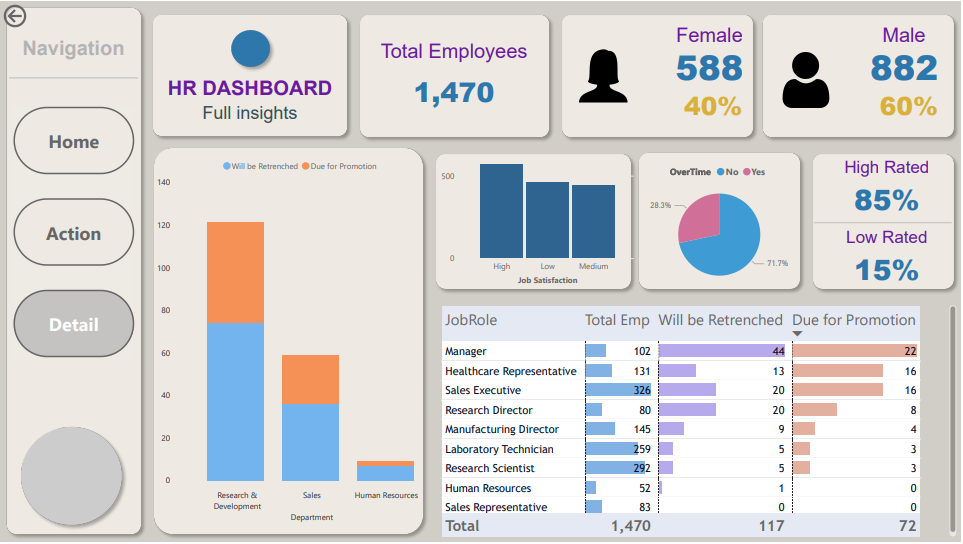

What the dashboard file says about the page in this screenshot:
{"tool":"powerbi","page":{"name":"Detail","canvas":[1280,720],"ordinal":2},"visuals":[{"type":"shape","box":[0,0,195.9,719.3],"z":0},{"type":"shape","box":[195.6,9.9,275,178.6],"z":1000},{"type":"shape","box":[470.6,9.9,270.7,180],"z":2000},{"type":"shape","box":[741.3,9.9,270.7,180],"z":3000},{"type":"shape","box":[1009.1,9.9,270.7,180],"z":4000},{"type":"textbox","box":[195.6,96.4,275,43.9],"z":5000},{"type":"textbox","box":[195.6,130.4,275,59.5],"z":6000},{"type":"shape","box":[300.5,29.8,68,66.6],"z":7000},{"type":"textbox","box":[470.6,29.8,270.7,43.9],"z":8000},{"type":"textbox","box":[895.7,29.8,97.8,43.9],"z":9000},{"type":"textbox","box":[1132.4,29.8,129,43.9],"z":10000},{"type":"card","title":"Total Employees","fields":{"Values":["All Measures.Total Emp"]},"box":[479.8,52,251.6,107.4],"z":11000},{"type":"card","title":"Male","fields":{"Values":["All Measures.Male"]},"box":[1142.4,29.8,126.1,82.2],"z":12000},{"type":"card","title":"Female","fields":{"Values":["All Measures.% female"]},"box":[892.9,102,116.2,75.1],"z":13000},{"type":"card","title":"Female","fields":{"Values":["All Measures.% male"]},"box":[1155.1,102,113.4,75.1],"z":14000},{"type":"card","title":"Female","fields":{"Values":["All Measures.Female"]},"box":[883,29.8,126.1,82.2],"z":15000},{"type":"image","box":[755.4,51,95,99.2],"z":16000},{"type":"image","box":[1027.6,63.8,93.5,83.6],"z":17000},{"type":"actionButton","box":[0,0,100,40],"z":18000},{"type":"shape","box":[197.5,188.3,375.1,531.2],"z":19000},{"type":"columnChart","fields":{"Category":["HR Analytics Data.Department"],"Y":["All Measures.Will be Retrenched","All Measures.Due for Promotion"]},"box":[203.6,200.5,396.5,499.1],"z":20000},{"type":"shape","box":[1074.7,195.9,205.1,197.5],"z":21000},{"type":"shape","box":[572.5,195.6,277.1,197.5],"z":22000},{"type":"columnChart","fields":{"Category":["HR Analytics Data.Satisfaction Level"],"Y":["All Measures.Total Emp"]},"box":[583.3,197.1,266.4,186.8],"z":23000},{"type":"shape","box":[843.5,194.4,231.2,199],"z":24000},{"type":"pieChart","fields":{"Category":["HR Analytics Data.OverTime"],"Y":["All Measures.Total Emp"]},"box":[799.1,208.2,319.9,179.1],"z":25000},{"type":"tableEx","fields":{"Values":["HR Analytics Data.JobRole","All Measures.Total Emp","All Measures.Will be Retrenched","All Measures.Due for Promotion"]},"box":[583.3,401.1,696.5,318.4],"z":26000},{"type":"shape","box":[1085.4,287.8,183.7,15.3],"z":27000},{"type":"card","title":"High Rated","fields":{"Values":["All Measures.% High"]},"box":[1085.4,208.2,194.4,85.7],"z":28000},{"type":"card","title":"Low Rated","fields":{"Values":["All Measures.% Low"]},"box":[1085.4,301.6,194.4,85.7],"z":29000},{"type":"shape","box":[19.9,560.3,151.6,147],"z":29001},{"type":"shape","box":[12.2,7.7,171.5,189.8],"z":29002},{"type":"textbox","box":[12.2,42.9,171.5,45.9],"z":29003},{"type":"pageNavigator","box":[18.4,140.8,160.7,336.8],"z":29004}]}

Visuals, with their boxes in screenshot pixels (x1, y1, x2, y2), scaled from the page's 1280x720 canvas onto the 963x544 screenshot:
shape: 0, 0, 147, 543
shape: 147, 7, 354, 142
shape: 354, 7, 558, 143
shape: 558, 7, 761, 143
shape: 759, 7, 962, 143
textbox: 147, 73, 354, 106
textbox: 147, 99, 354, 143
shape: 226, 23, 277, 73
textbox: 354, 23, 558, 56
textbox: 674, 23, 747, 56
textbox: 852, 23, 949, 56
"Total Employees" card: 361, 39, 550, 120
"Male" card: 859, 23, 954, 85
"Female" card: 672, 77, 759, 134
"Female" card: 869, 77, 954, 134
"Female" card: 664, 23, 759, 85
image: 568, 39, 640, 113
image: 773, 48, 843, 111
actionButton: 0, 0, 75, 30
shape: 149, 142, 431, 543
columnChart - HR Analytics Data.Department x All Measures.Will be Retrenched: 153, 151, 451, 529
shape: 809, 148, 962, 297
shape: 431, 148, 639, 297
columnChart - HR Analytics Data.Satisfaction Level x All Measures.Total Emp: 439, 149, 639, 290
shape: 635, 147, 809, 297
pieChart - HR Analytics Data.OverTime x All Measures.Total Emp: 601, 157, 842, 293
tableEx - HR Analytics Data.JobRole x All Measures.Total Emp: 439, 303, 962, 543
shape: 817, 217, 955, 229
"High Rated" card: 817, 157, 962, 222
"Low Rated" card: 817, 228, 962, 293
shape: 15, 423, 129, 534
shape: 9, 6, 138, 149
textbox: 9, 32, 138, 67
pageNavigator: 14, 106, 135, 361
